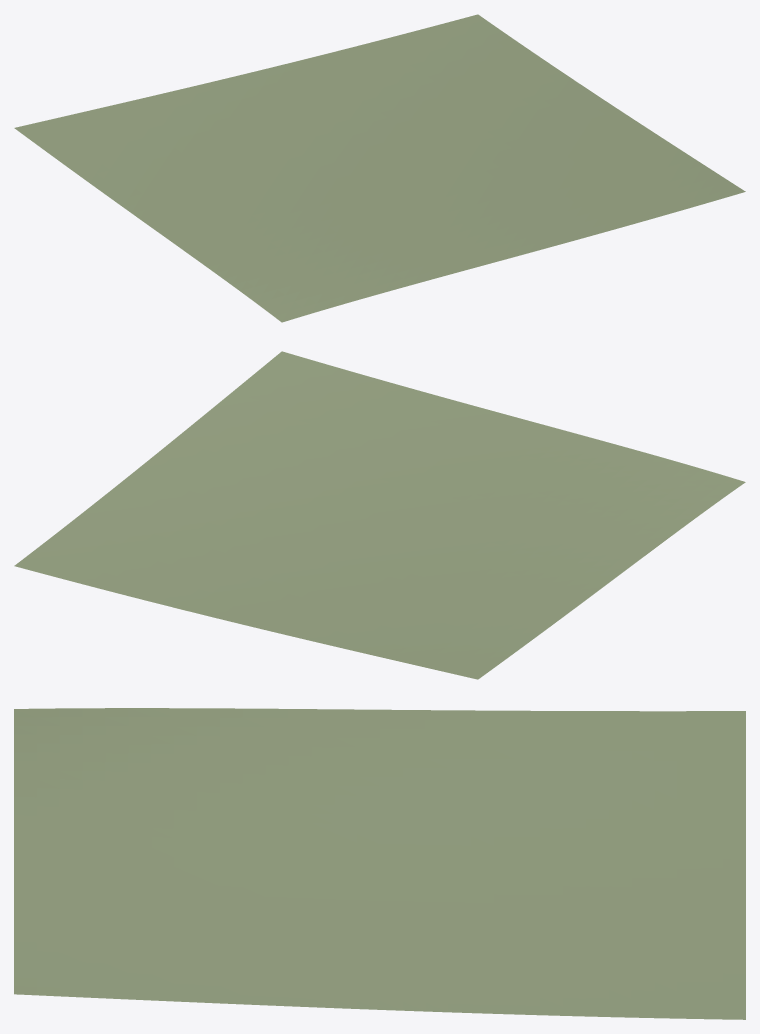
File: expanse-15-14.glb
The picture shows the model from 3 angles, top to bottom: view 1: azimuth 30°, elevation 25°; view 2: azimuth 150°, elevation 25°; view 3: azimuth 270°, elevation 25°; orthographic projection. The views are drawn at different scales.
Visible parts, largest first — view 1: expanse-15-14; view 2: expanse-15-14; view 3: expanse-15-14.
Part boxes in pixels (x1,y1,x2,y2): expanse-15-14: (14, 14, 745, 322); expanse-15-14: (14, 351, 745, 679); expanse-15-14: (14, 708, 745, 1019).
Size of the model in its own units: 256 by 11.3 by 256.
